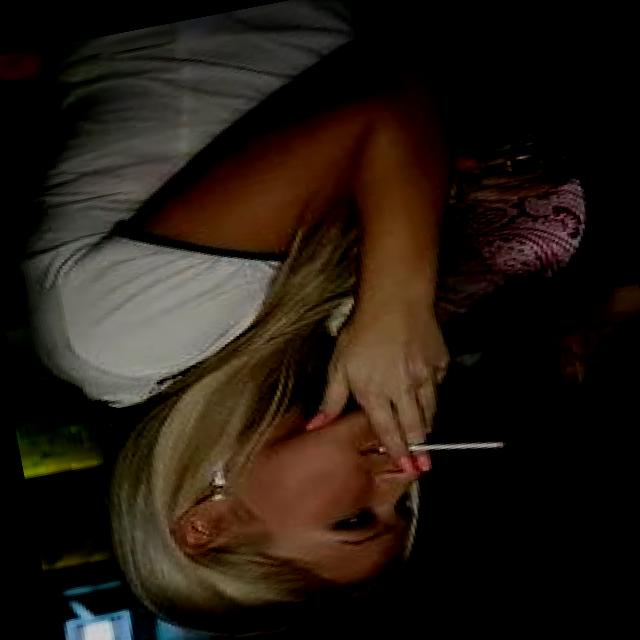cigarette: (365, 413, 518, 481)
